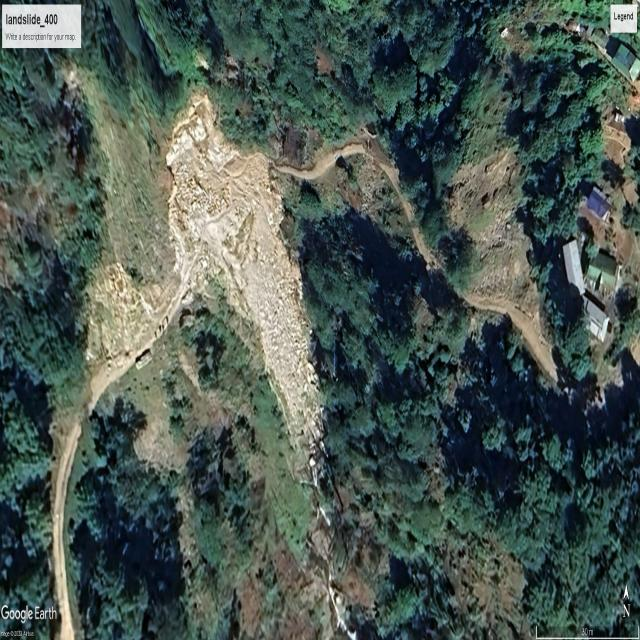Landslide: (237, 261, 324, 470), (175, 102, 238, 194)
